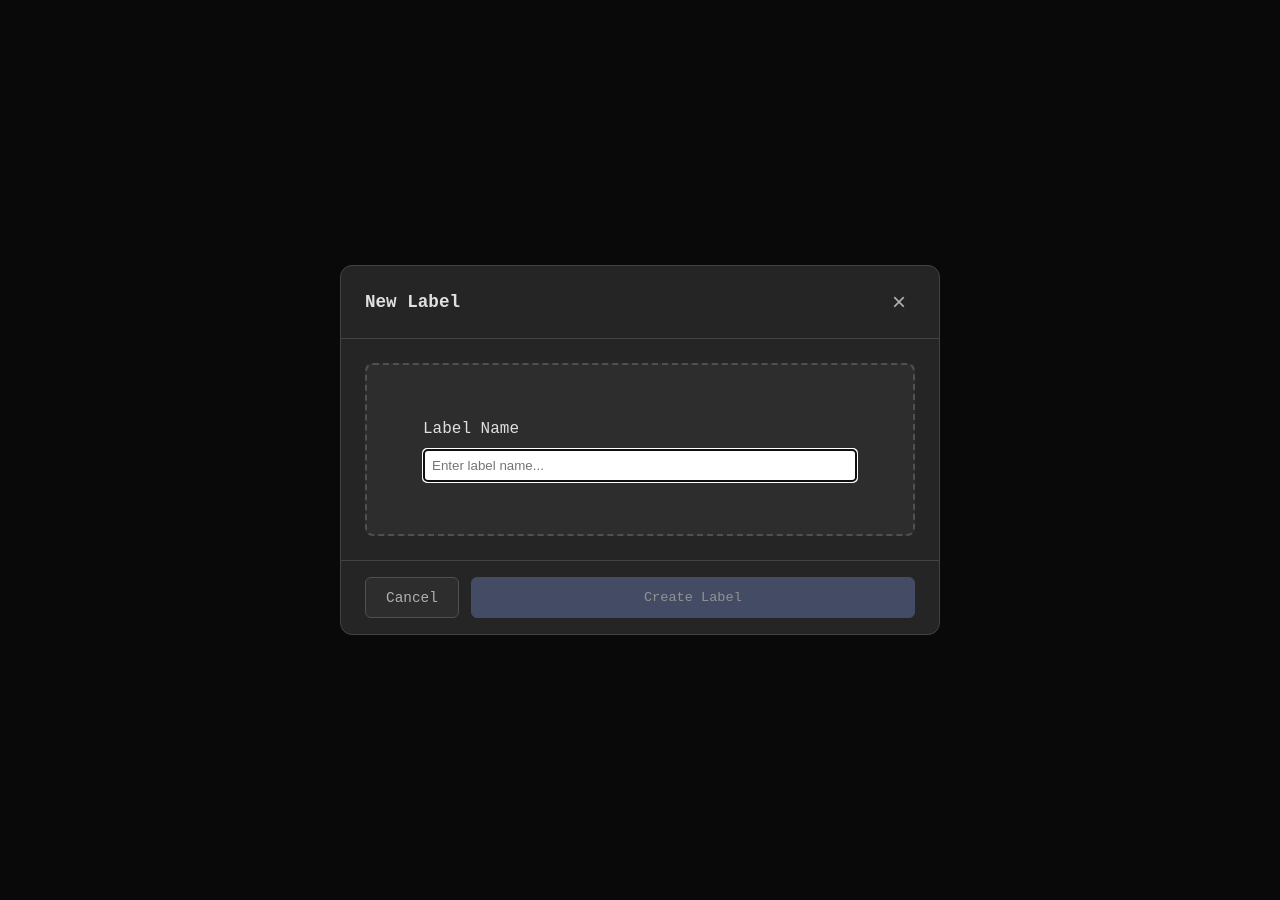
Test: NewLabelModal › shows error message when creation fails
The image size is (1280, 900).
Type "Test Label" into the field labelled "Label Name" at (640,466), box [423,449,857,482]
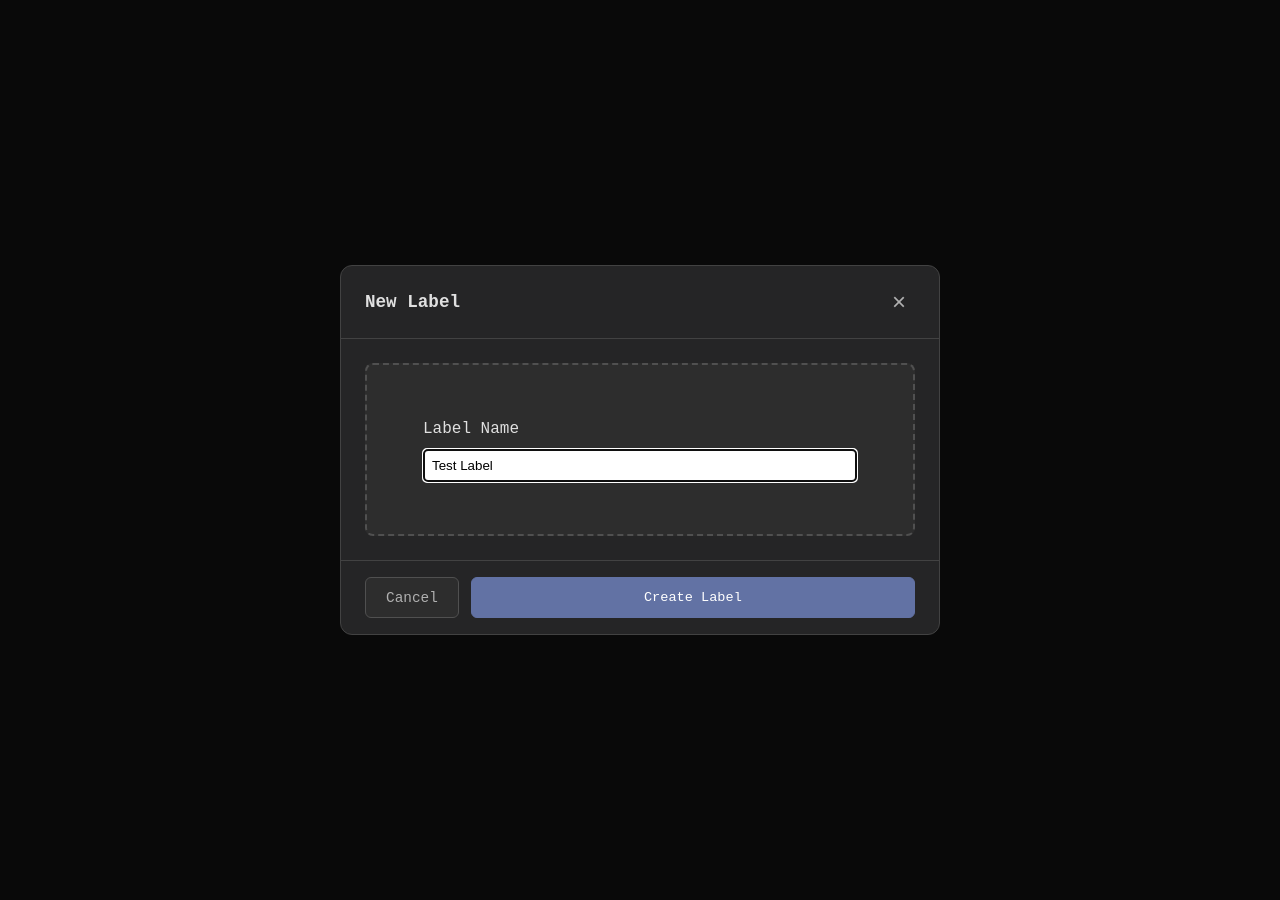
Click the button "Create Label" at (693,598), box [471,577,915,618]
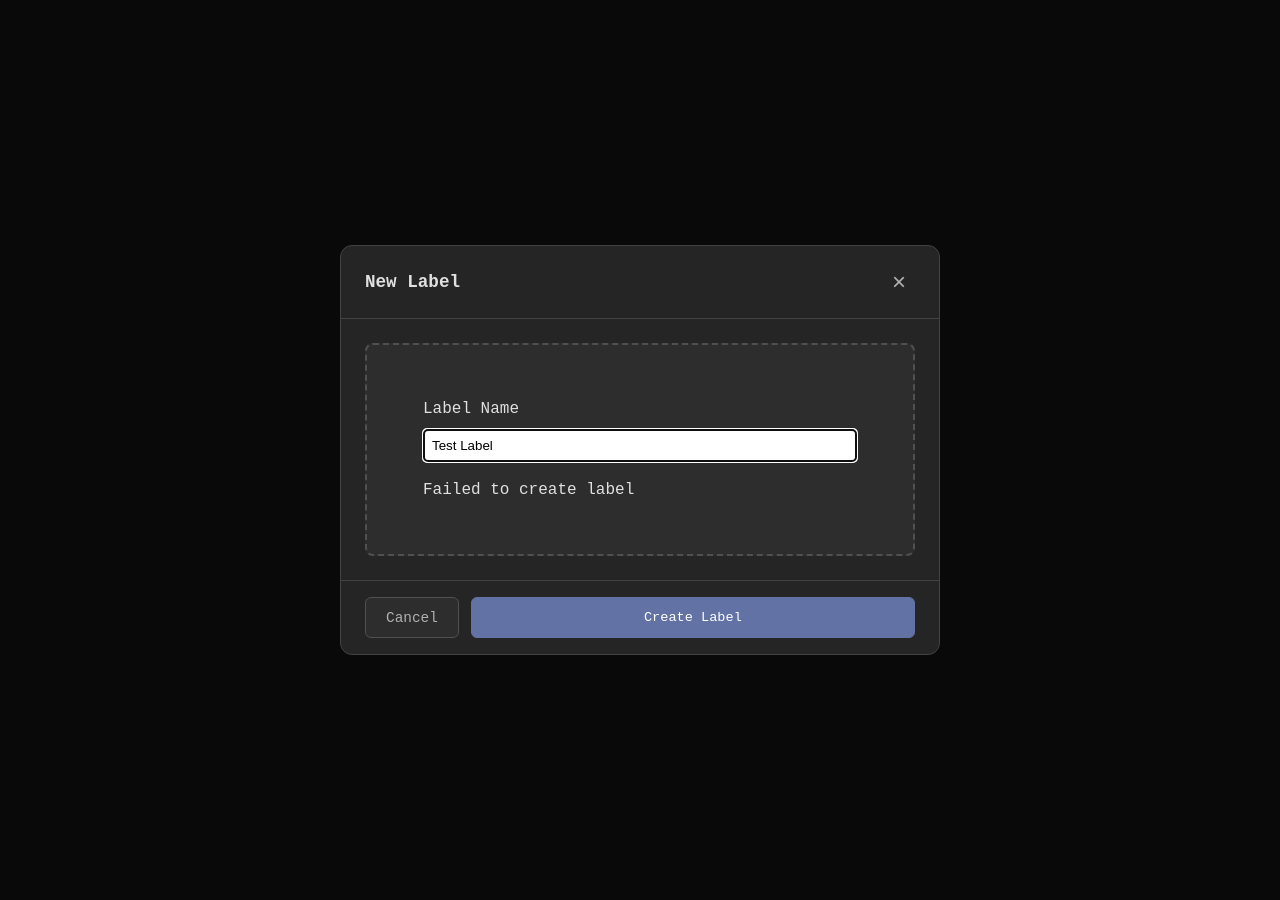
expect the text "Failed to create label" is shown: met, box [423,481,634,499]
